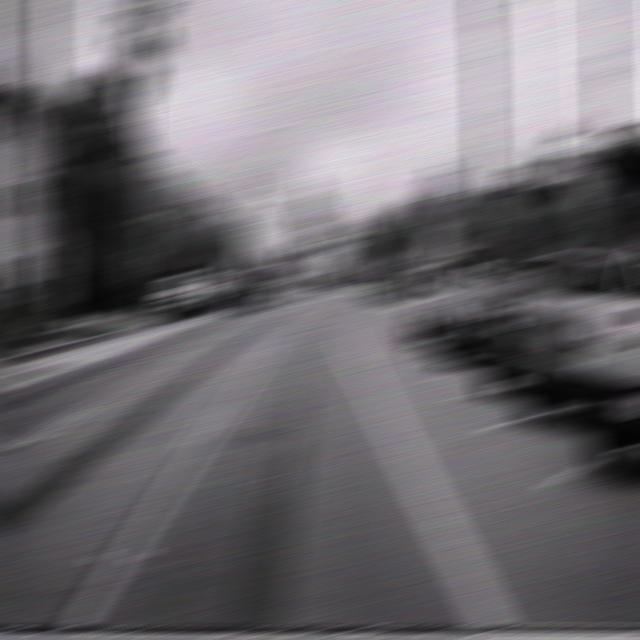pedestrianCrossing: (373, 250, 398, 270)
